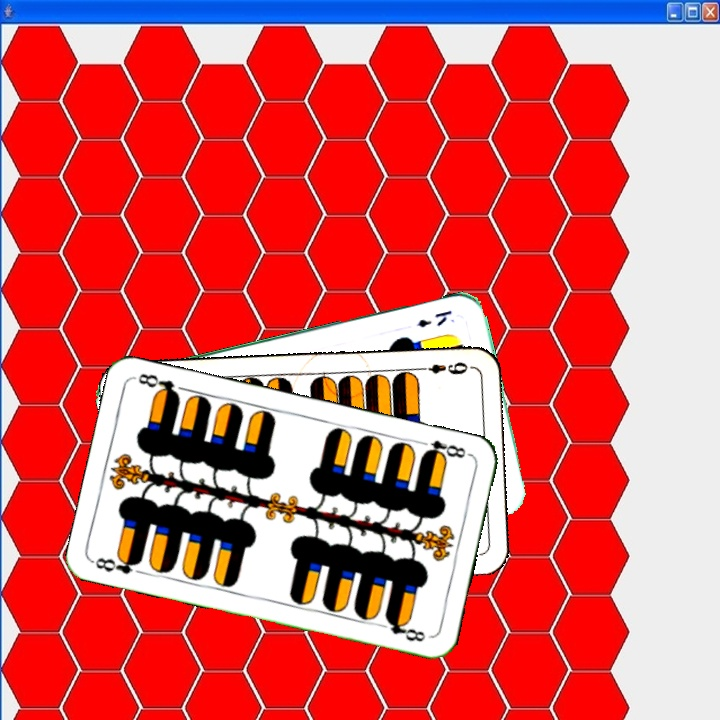E8: (414, 436, 468, 463), (90, 551, 145, 577)
E9: (414, 357, 470, 378)
EK: (413, 306, 455, 330)
